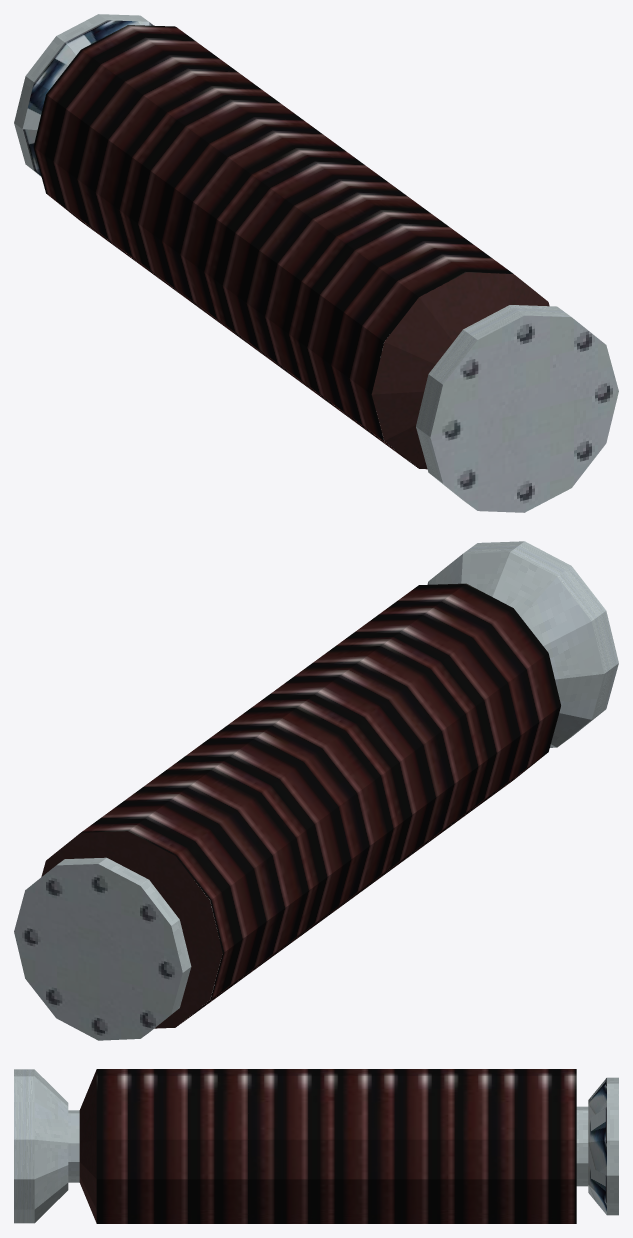
File: cjyz009-geode.glb
3 renders of one model, top to bottom at view 1: azimuth 30°, elevation 25°; view 2: azimuth 150°, elevation 25°; view 3: azimuth 270°, elevation 25°, orthographic. The views are drawn at different scales.
Parts seen in each view (by area): view 1: Node; view 2: Node; view 3: Node.
Boxes of the visible parts, bbox=[...] form: Node: bbox=[14, 14, 618, 512]; Node: bbox=[14, 541, 618, 1040]; Node: bbox=[14, 1069, 618, 1223].
Size of the model in its own units: 0.1671 by 0.1671 by 0.6507.
Materials: 5 (5 with a texture image).
